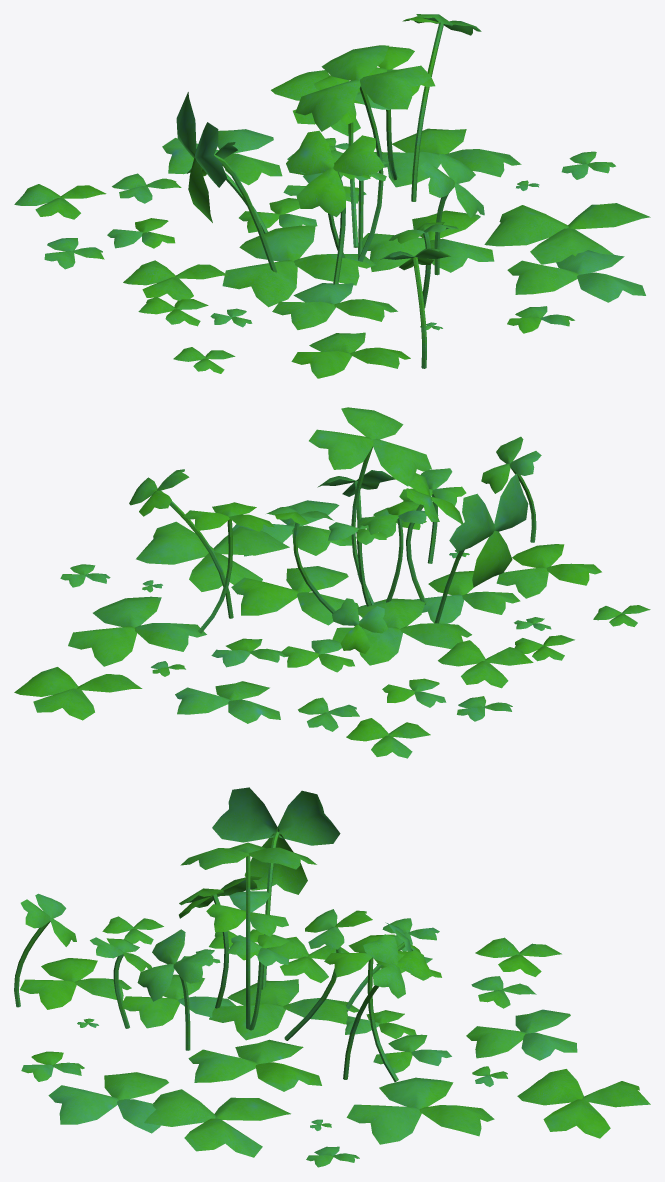
Rendered from trefle.fbx.
The picture shows the model from 3 angles, top to bottom: view 1: azimuth 30°, elevation 25°; view 2: azimuth 150°, elevation 25°; view 3: azimuth 270°, elevation 25°; orthographic projection. The views are drawn at different scales.
Parts seen in each view (by area): view 1: Treffles; view 2: Treffles; view 3: Treffles.
Part boxes in pixels (bbox=[...]): Treffles: bbox=[14, 14, 650, 378]; Treffles: bbox=[14, 407, 650, 758]; Treffles: bbox=[14, 787, 650, 1167].
Size of the model in its own units: 22.18 by 8.37 by 24.07.
